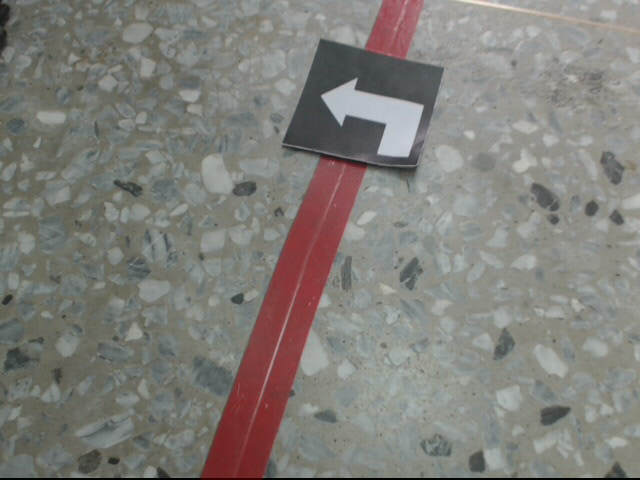left: (281, 40, 447, 172)
